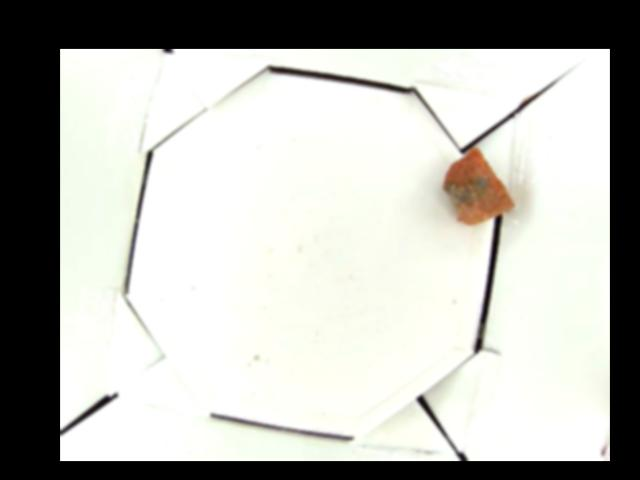Brisk: (440, 145, 515, 224)
